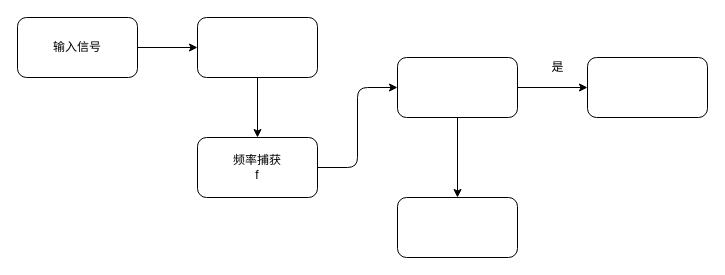
Some shapes in this 725 by 275 pixel diagram are drawn without their labels. Each missing label, with the centre of its shape:
"FFT滤波处理" belongs at (257,47).
"判断频率范围 小于10kHz？" belongs at (457,87).
